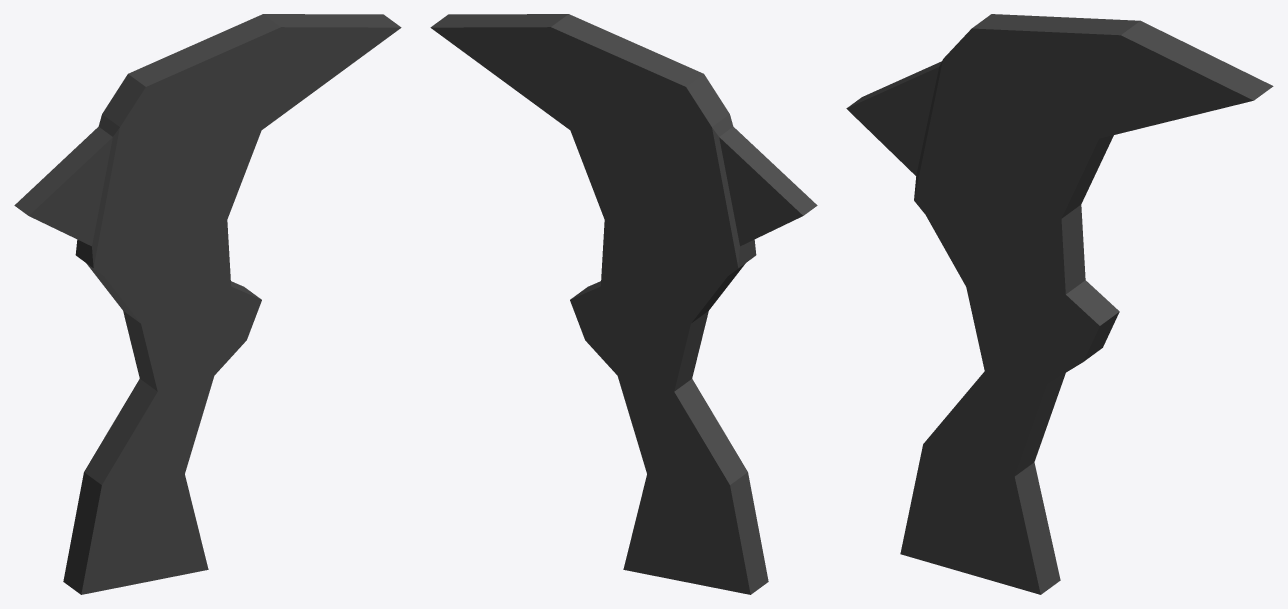
File: throne_acc_01.FBX
The picture shows the model from 3 angles, left to right: view 1: azimuth 30°, elevation 25°; view 2: azimuth 150°, elevation 25°; view 3: azimuth 330°, elevation 25°; orthographic projection. The views are drawn at different scales.
Visible parts, largest first — view 1: throne_acc_01; view 2: throne_acc_01; view 3: throne_acc_01.
Part boxes in pixels (<box>): throne_acc_01: <box>14,14,401,594</box>; throne_acc_01: <box>430,14,817,594</box>; throne_acc_01: <box>846,14,1273,594</box>.
Bounding box in the file's own units: 79.52 × 107 × 6.67.
